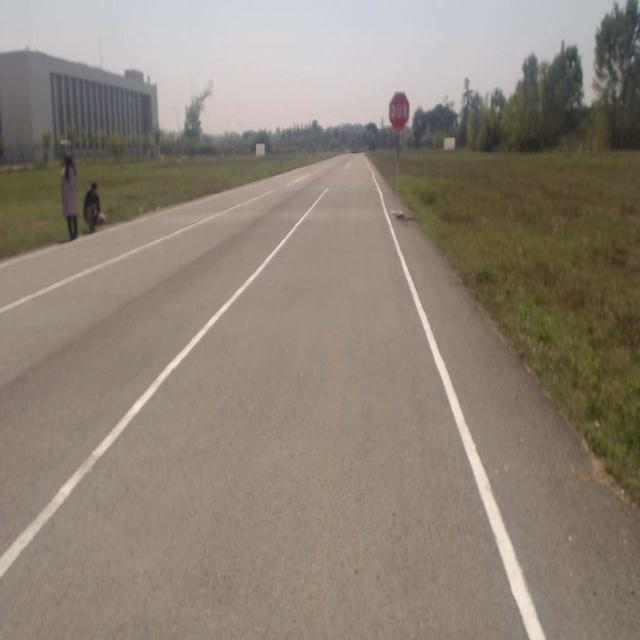dur: (388, 92, 409, 129)
